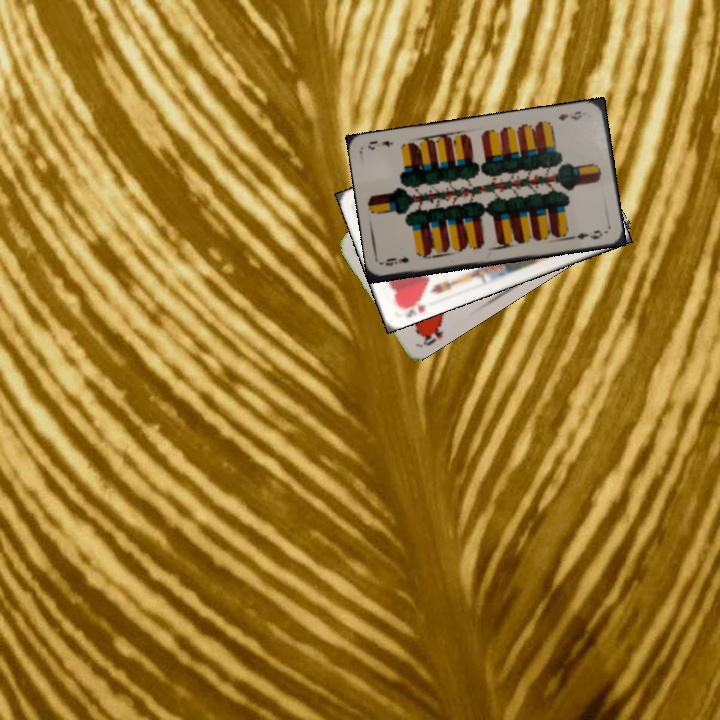E9: (554, 107, 585, 123), (381, 253, 411, 269)
HK: (402, 295, 430, 320)
HO: (418, 320, 446, 348)
